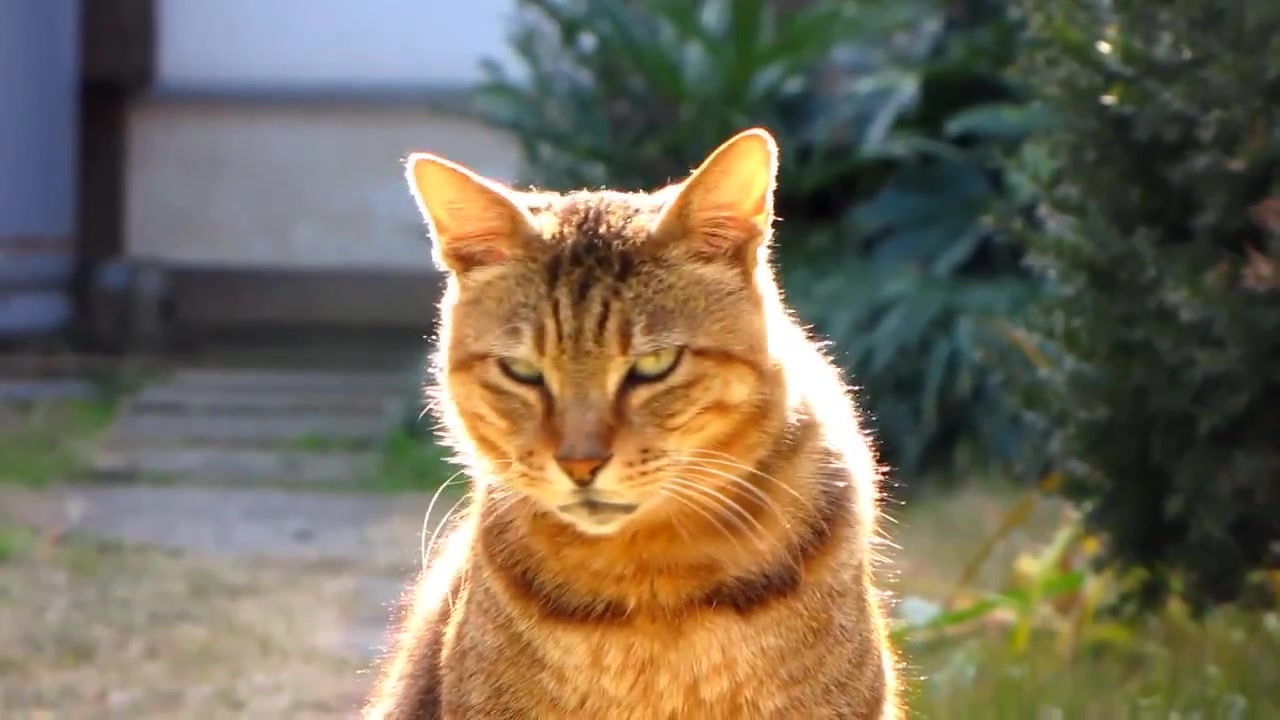cat: (360, 124, 909, 719)
